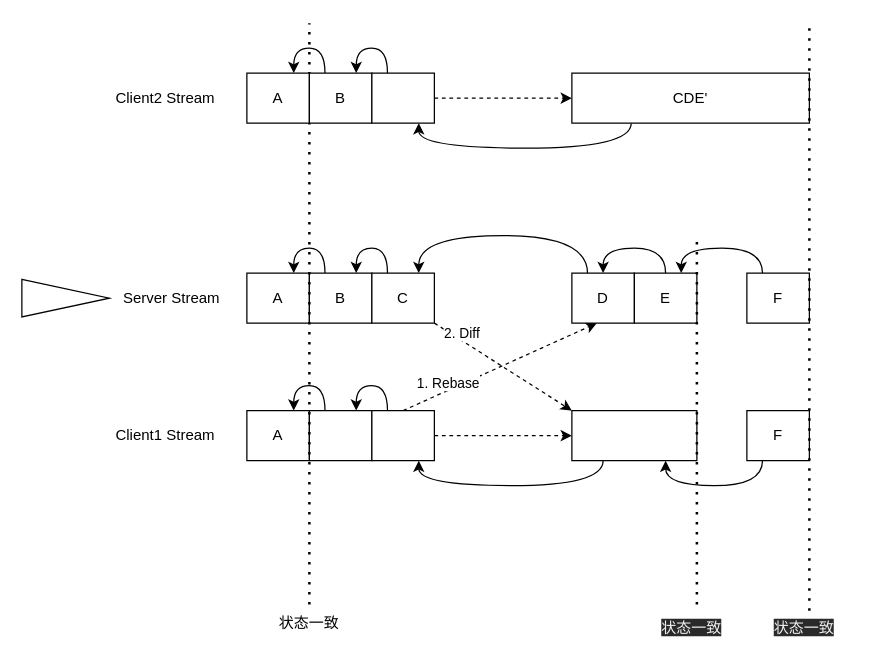
Some shapes in this 881 by 669 pixel diagram are drawn without their labels. Here are the shapes that lost their labels. From the top down, the box of each, then its label:
(371, 72, 434, 123): F'
(21, 278, 109, 317): 基准
(308, 409, 372, 461): D'
(371, 409, 434, 461): E'
(571, 409, 697, 461): BC'
